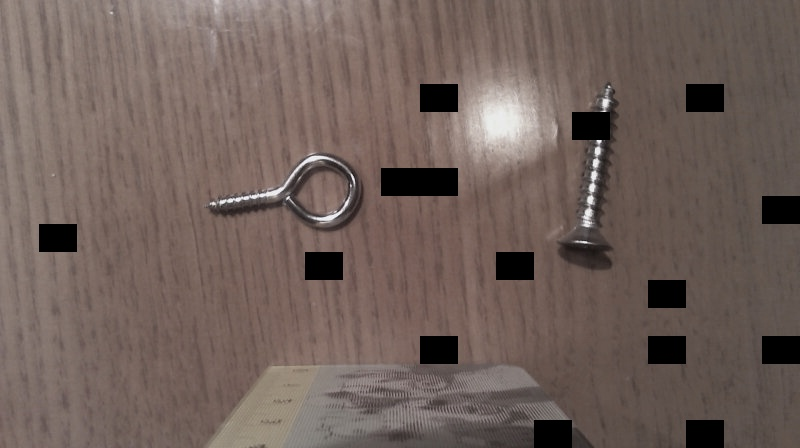O001: (202, 149, 366, 233)
S001: (553, 80, 624, 259)
